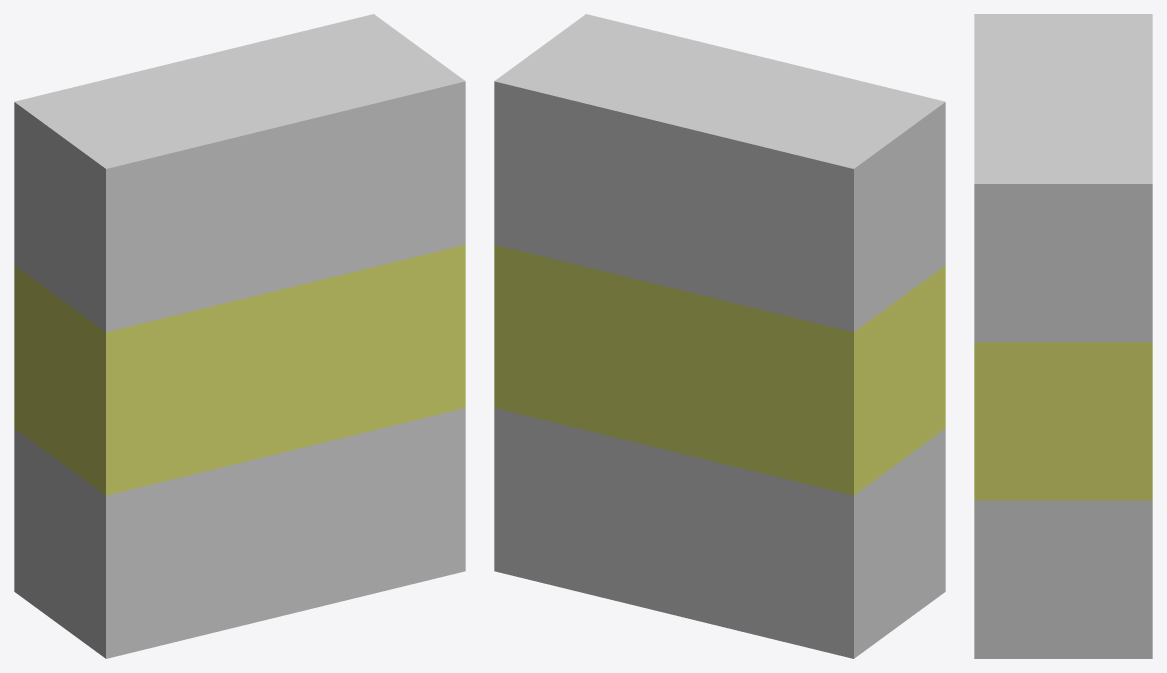
Rendered from cornflakes.fbx.
The picture shows the model from 3 angles, left to right: view 1: azimuth 30°, elevation 25°; view 2: azimuth 150°, elevation 25°; view 3: azimuth 270°, elevation 25°; orthographic projection. The views are drawn at different scales.
Parts seen in each view (by area): view 1: Cube; view 2: Cube; view 3: Cube.
Part boxes in pixels (x1,y1,x2,y2): Cube: (14, 14, 465, 658); Cube: (494, 14, 945, 658); Cube: (974, 14, 1152, 658).
Size of the model in its own units: 134 by 174 by 59.37.
